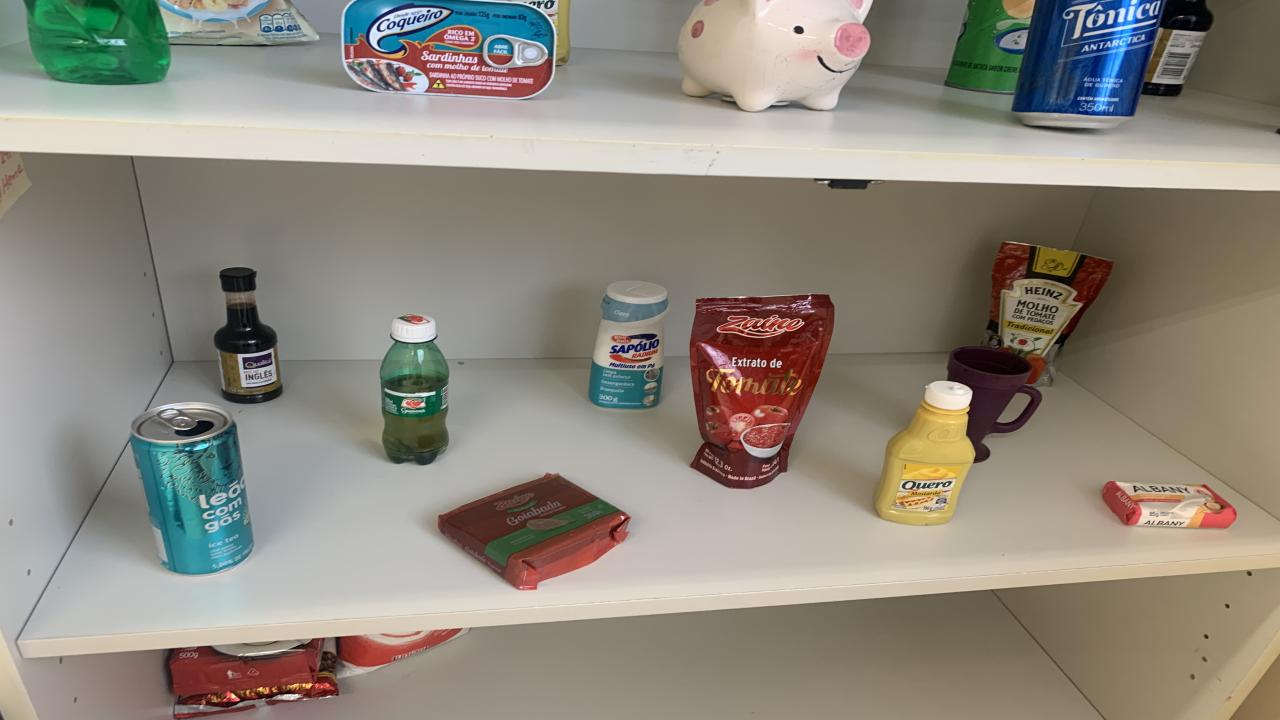Cleaner-Cleanup_Items: (590, 279, 668, 409)
Detergent-Cleanup_Items: (25, 0, 170, 84)
English_Sauce-Pantry_Items: (215, 268, 282, 403), (1142, 0, 1212, 96)
Flakes-Snacks: (158, 0, 318, 45)
Guarana-Drinks: (380, 315, 450, 465)
Guava-Snacks: (438, 472, 630, 591)
Mustard-Pantry_Items: (875, 381, 975, 525), (512, 0, 570, 66)
Pig_Safe-Miscellaneous: (678, 0, 872, 111)
Pringles-Snacks: (945, 0, 1035, 94)
Soap-Cleanup_Items: (1102, 482, 1235, 529)
Tea-Drinks: (130, 403, 252, 576)
Tomato_Sauce-Pantry_Items: (690, 294, 835, 488), (985, 242, 1112, 386)
Tonic-Drinks: (1012, 0, 1165, 128)
Tuna_Can-Pantry_Items: (342, 0, 558, 99)
